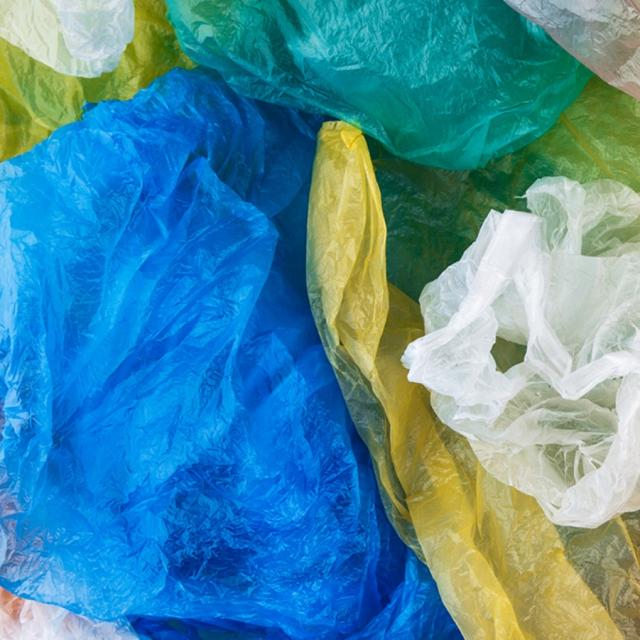Single-layer Plastic: (0, 69, 460, 640), (309, 79, 640, 640), (402, 176, 640, 527), (166, 0, 591, 170), (0, 0, 194, 161), (505, 0, 640, 99), (0, 0, 134, 78)
